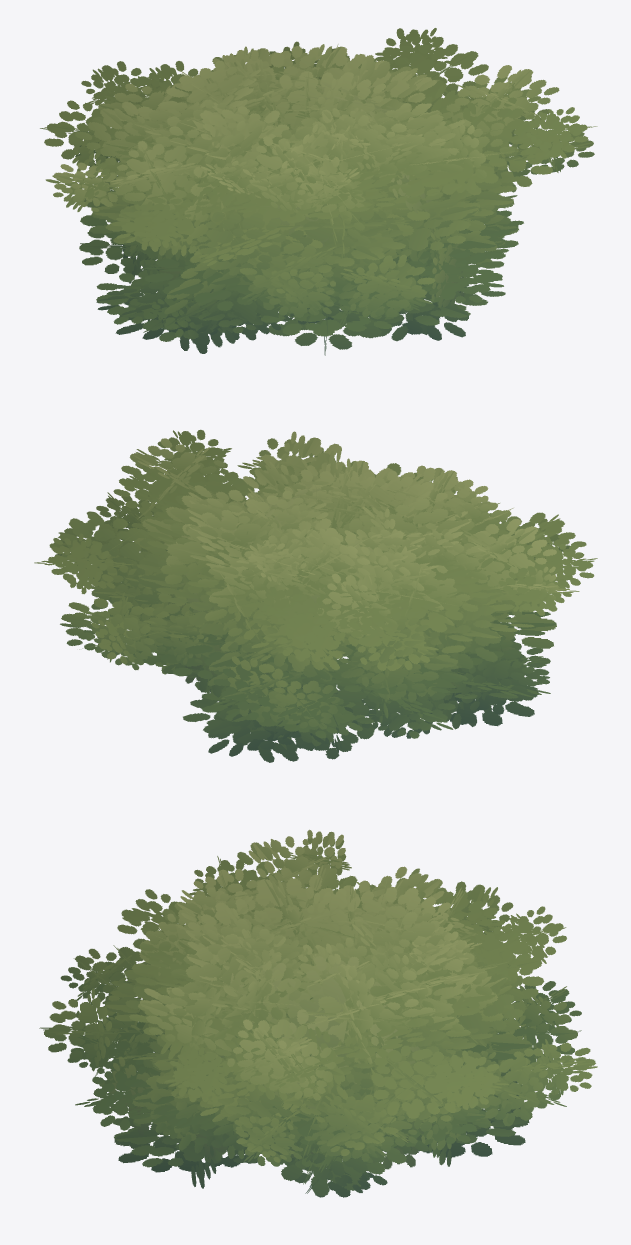
The model's file is shrub-low-spreading.glb.
The picture shows the model from 3 angles, top to bottom: view 1: azimuth 30°, elevation 25°; view 2: azimuth 150°, elevation 25°; view 3: azimuth 270°, elevation 25°; orthographic projection. The views are drawn at different scales.
Parts seen in each view (by area): view 1: shrub-low-spreading runtime mesh; view 2: shrub-low-spreading runtime mesh; view 3: shrub-low-spreading runtime mesh.
Part boxes in pixels (x1,y1,x2,y2): shrub-low-spreading runtime mesh: (40, 28, 597, 355); shrub-low-spreading runtime mesh: (34, 429, 597, 762); shrub-low-spreading runtime mesh: (39, 829, 597, 1197).
Size of the model in its own units: 1.96 by 0.924 by 1.76.
Materials: 1 (1 with a texture image).
